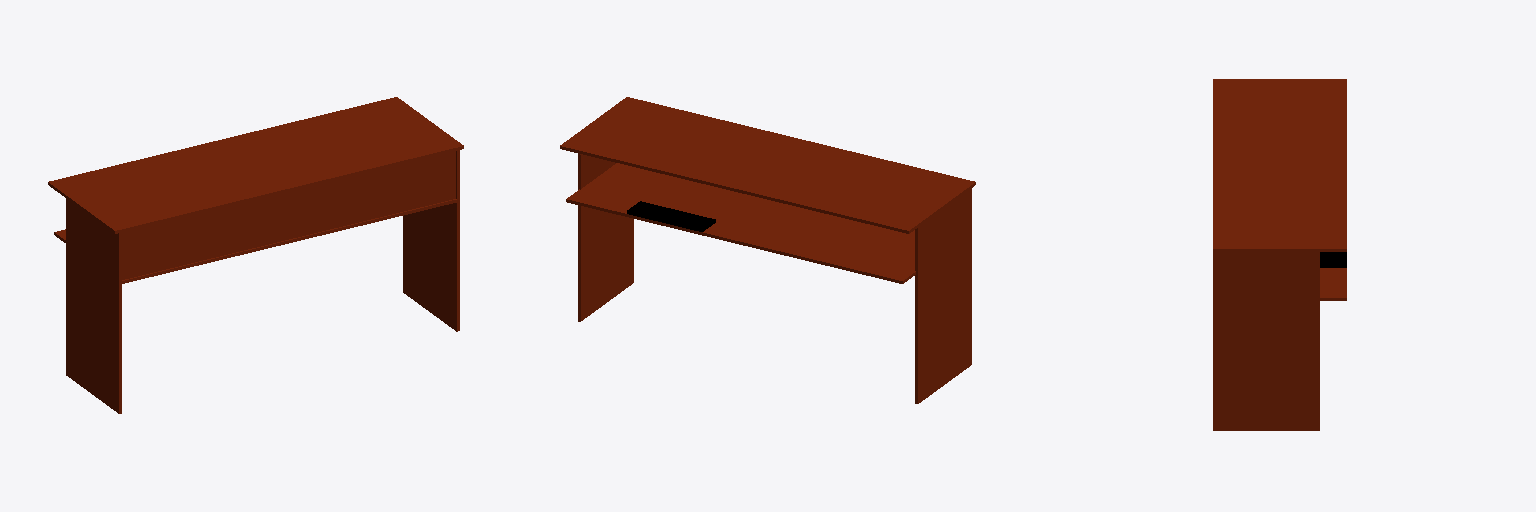
The model's file is bangiaodich.obj.
The picture shows the model from 3 angles: view 1: azimuth 30°, elevation 25°; view 2: azimuth 150°, elevation 25°; view 3: azimuth 270°, elevation 25°; orthographic projection.
Parts seen in each view (by area): view 1: obj1, obj2, obj4, obj5, obj3; view 2: obj1, obj3, obj4, obj5, obj6; view 3: obj1, obj5, obj3.
Part boxes in pixels (x1,y1,x2,y2): obj1: (48,97,463,233); obj2: (122,151,455,279); obj4: (66,199,121,413); obj5: (403,150,459,331); obj3: (54,199,456,283); obj1: (560,97,975,233); obj3: (566,163,915,283); obj4: (915,188,971,403); obj5: (578,153,633,321); obj6: (627,201,715,231); obj1: (1213,79,1346,251); obj5: (1213,252,1319,430); obj3: (1320,268,1346,300).
Bounding box in the file's own units: 6 × 3.02 × 2.